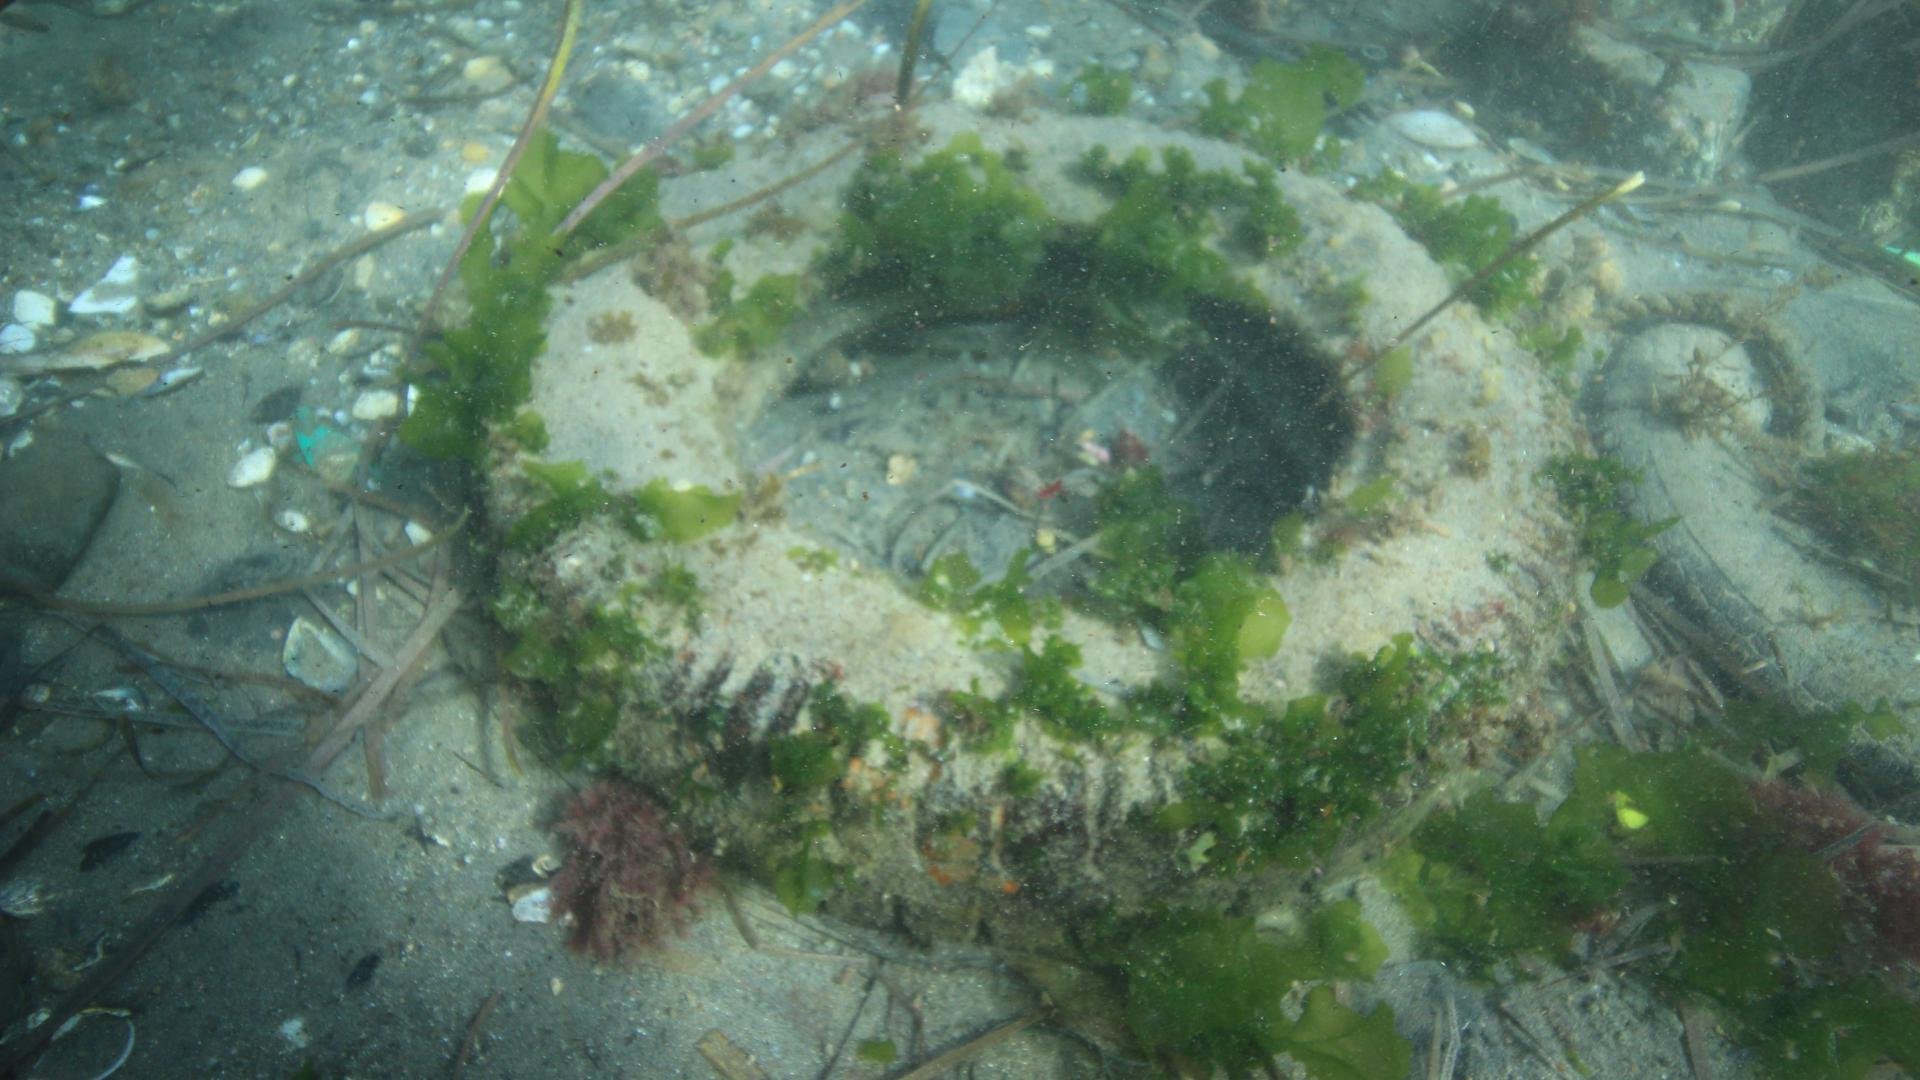rope: (1568, 282, 1825, 468)
tire: (463, 96, 1586, 949)
